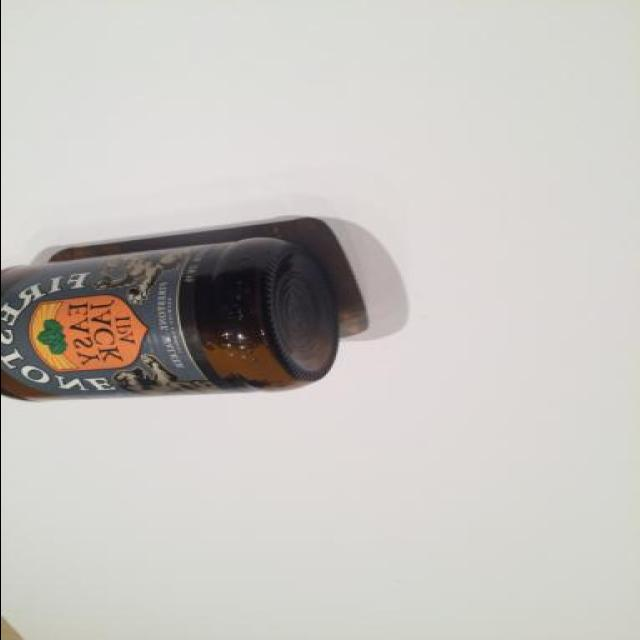glass: (0, 244, 335, 398)
